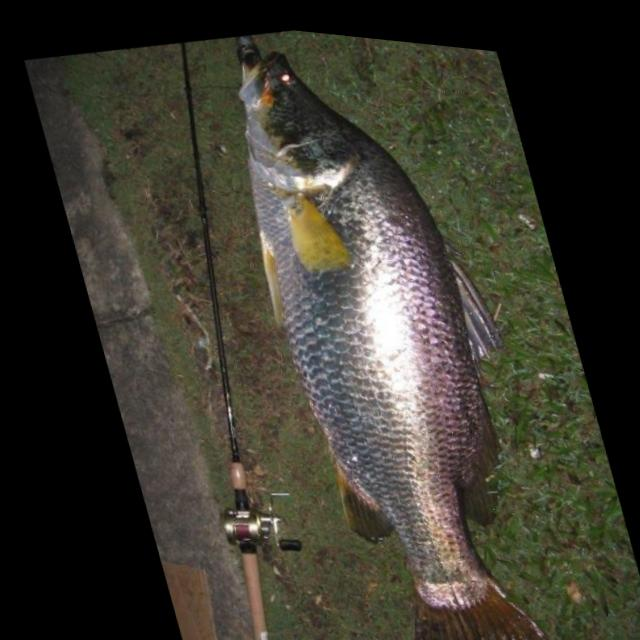Seabass: (198, 21, 596, 640)
